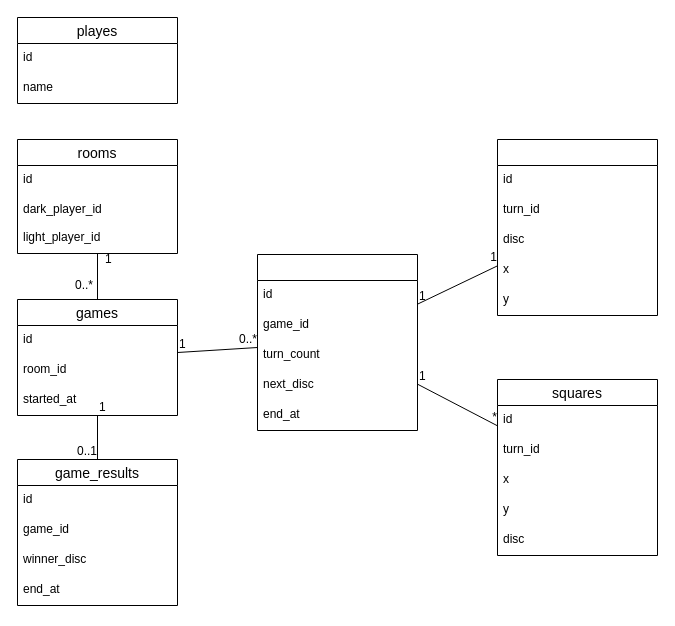
Image size: 675x626. Some labels were removed from this diagram. The shapes that lost their labels are listed below. From the top down, each one's box as (x1, y1, x2, y2) in pixels, then its label:
(496, 138, 658, 316): moves
(256, 254, 418, 430): turns
